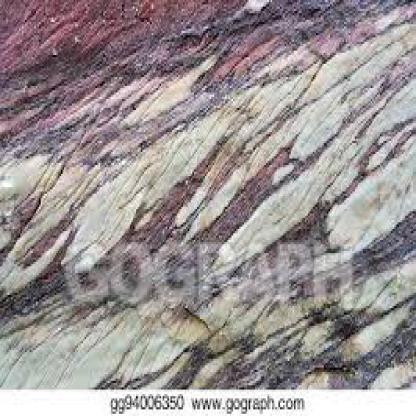Metamorphic_Quartize: (3, 0, 415, 374)
